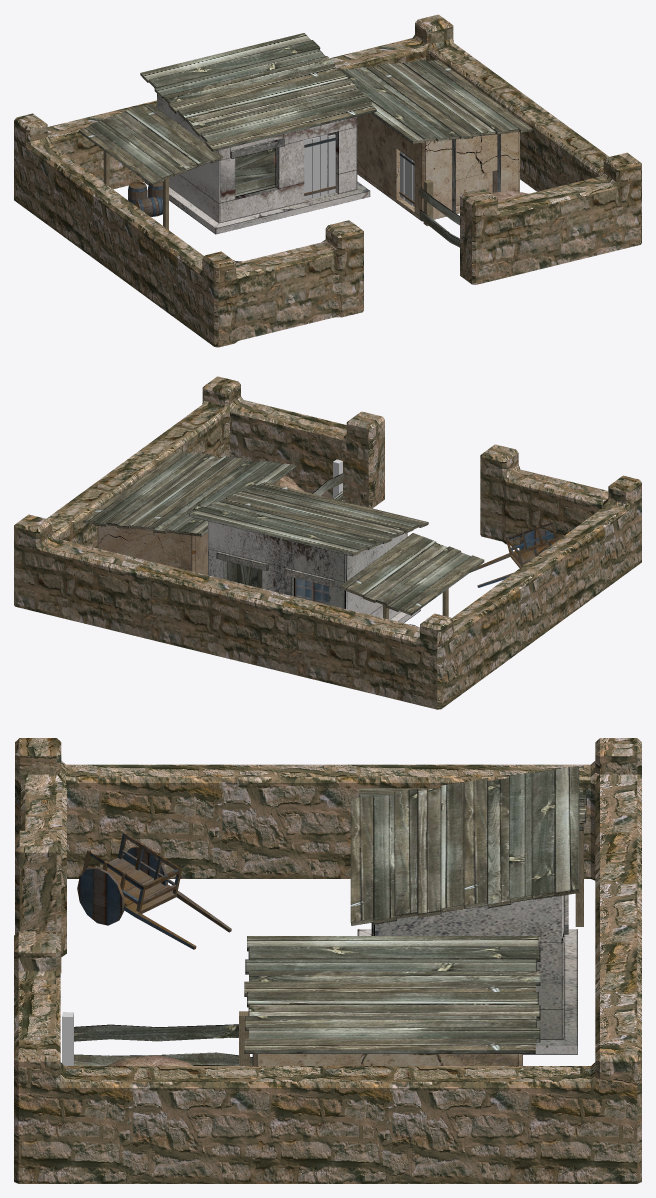
Rendered from house.FBX.
The picture shows the model from 3 angles, top to bottom: view 1: azimuth 30°, elevation 25°; view 2: azimuth 150°, elevation 25°; view 3: azimuth 270°, elevation 25°; orthographic projection. The views are drawn at different scales.
Parts seen in each view (by area): view 1: Box02, Box01, Box15, Box05, Box09, Box14, Box07, Box13, Box08, Box12, Box10, Box06 (+19 smaller); view 2: Box02, Box01, Box15, Box12, Box02ewre, Box43, Box20, Box41, Box16, Box21, Box09, Box42 (+18 smaller); view 3: Box02, Box01, Box17, Box02ewre, Box24, Box27, Box23, Box20, Box16, Box15, Box19, Box18 (+17 smaller).
Part boxes in pixels (left/top/right/bottom): Box02: left=14, top=14, right=641, bottom=347; Box01: left=144, top=94, right=370, bottom=234; Box15: left=357, top=113, right=519, bottom=221; Box05: left=205, top=102, right=376, bottom=151; Box09: left=177, top=70, right=348, bottom=120; Box14: left=148, top=40, right=320, bottom=88; Box07: left=191, top=86, right=362, bottom=136; Box13: left=154, top=49, right=325, bottom=98; Box08: left=186, top=78, right=357, bottom=126; Box12: left=140, top=33, right=310, bottom=82; Box10: left=168, top=64, right=338, bottom=113; Box06: left=201, top=93, right=371, bottom=141; Box02: left=14, top=376, right=641, bottom=709; Box01: left=208, top=521, right=420, bottom=623; Box15: left=97, top=479, right=280, bottom=575; Box12: left=189, top=510, right=360, bottom=556; Box02ewre: left=470, top=521, right=564, bottom=587; Box43: left=399, top=555, right=484, bottom=615; Box20: left=129, top=456, right=235, bottom=529; Box41: left=351, top=537, right=436, bottom=597; Box16: left=105, top=453, right=212, bottom=526; Box21: left=142, top=457, right=249, bottom=530; Box09: left=226, top=494, right=397, bottom=538; Box42: left=376, top=546, right=460, bottom=605; Box02: left=14, top=738, right=641, bottom=1183; Box01: left=357, top=894, right=577, bottom=1054; Box17: left=244, top=1038, right=535, bottom=1053; Box02ewre: left=82, top=832, right=231, bottom=949; Box24: left=248, top=946, right=540, bottom=961; Box27: left=74, top=1024, right=252, bottom=1065; Box23: left=245, top=959, right=536, bottom=974; Box20: left=247, top=992, right=538, bottom=1007; Box16: left=245, top=1016, right=536, bottom=1030; Box15: left=252, top=1054, right=522, bottom=1065; Box19: left=248, top=1005, right=540, bottom=1020; Box18: left=249, top=1027, right=540, bottom=1042.
Size of the model in its own units: 163 by 135 by 43.87.
